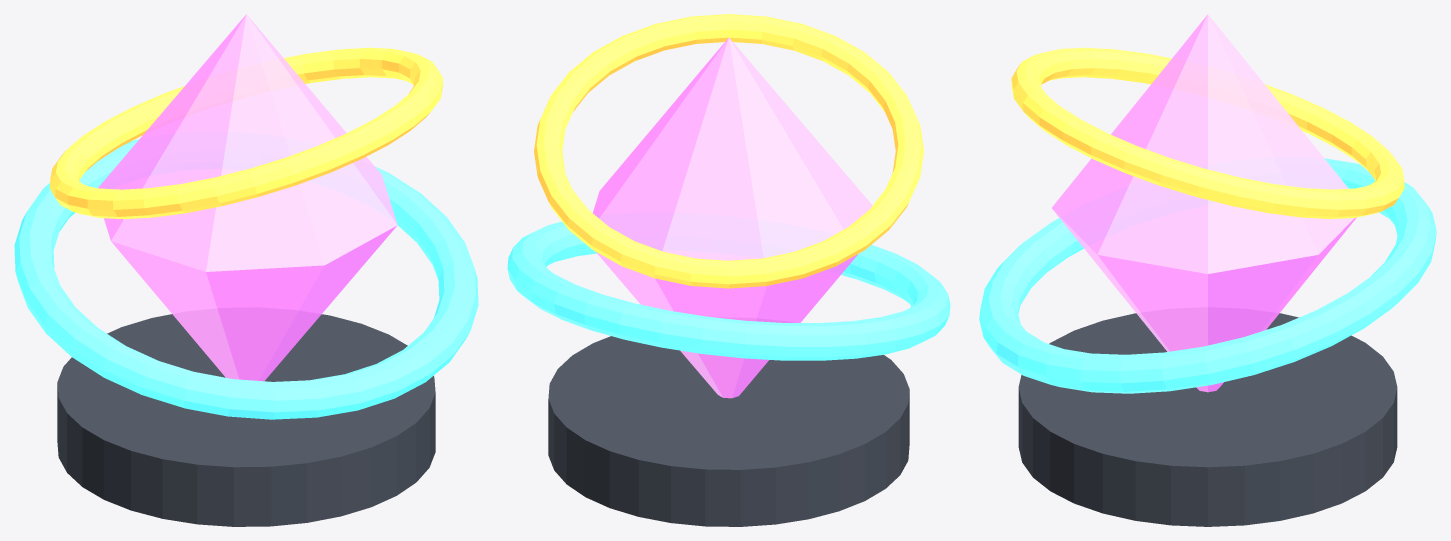
The model's file is AXM-PICKUP-GEM-001.glb.
3 renders of one model, left to right at view 1: azimuth 30°, elevation 25°; view 2: azimuth 150°, elevation 25°; view 3: azimuth 270°, elevation 25°, orthographic. The views are drawn at different scales.
Visible parts, largest first — view 1: gem, base, lower_orbit, upper_orbit; view 2: base, gem, upper_orbit, lower_orbit; view 3: base, gem, lower_orbit, upper_orbit.
Part boxes in pixels (box(x1,y1,x2,y2)): gem: box(98, 14, 397, 381); base: box(57, 314, 435, 526); lower_orbit: box(14, 139, 478, 419); upper_orbit: box(50, 47, 443, 219); base: box(548, 336, 909, 526); gem: box(593, 37, 872, 398); upper_orbit: box(534, 14, 923, 288); lower_orbit: box(507, 221, 950, 360); base: box(1018, 313, 1397, 526); gem: box(1052, 14, 1356, 392); lower_orbit: box(979, 158, 1436, 393); upper_orbit: box(1011, 47, 1404, 218).
Size of the model in its own units: 0.568 by 0.58 by 0.5556.
